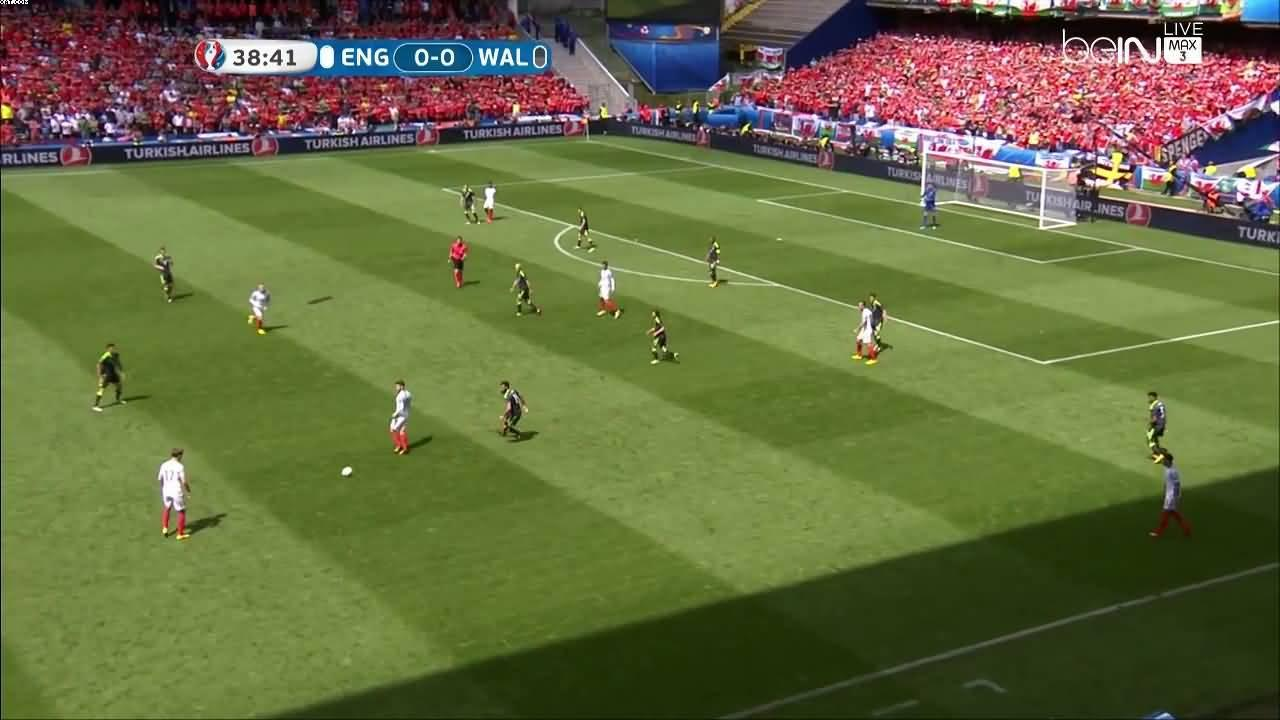ball: (341, 466, 352, 477)
goalkeeper: (921, 180, 938, 231)
player: (1149, 454, 1190, 538), (158, 448, 191, 539), (91, 343, 128, 411), (511, 263, 543, 319), (498, 381, 528, 440), (388, 381, 411, 455), (647, 311, 679, 364), (852, 301, 877, 365), (1146, 392, 1167, 465), (596, 260, 621, 319), (154, 247, 176, 304), (247, 283, 271, 335), (866, 293, 887, 351), (573, 207, 596, 253), (705, 237, 721, 288), (460, 184, 480, 224), (481, 181, 497, 224)
referee: (448, 237, 469, 290)
